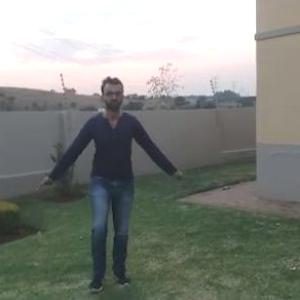land: (37, 71, 179, 290)
